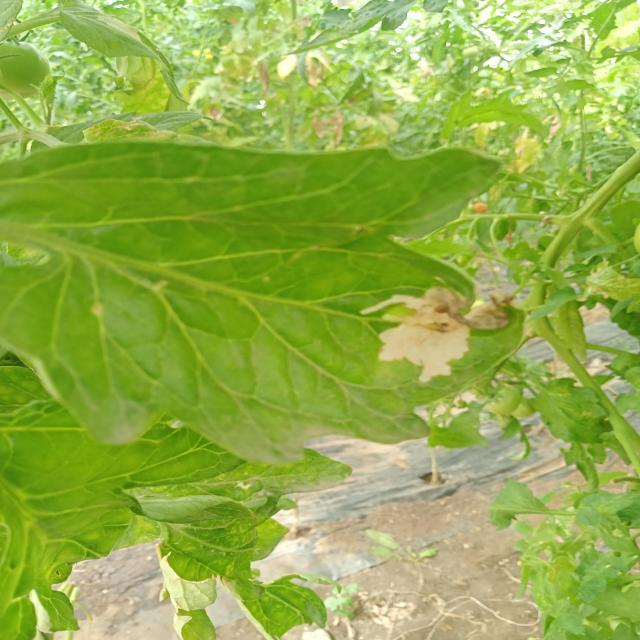Tuta absoluta: (359, 275, 523, 391)
